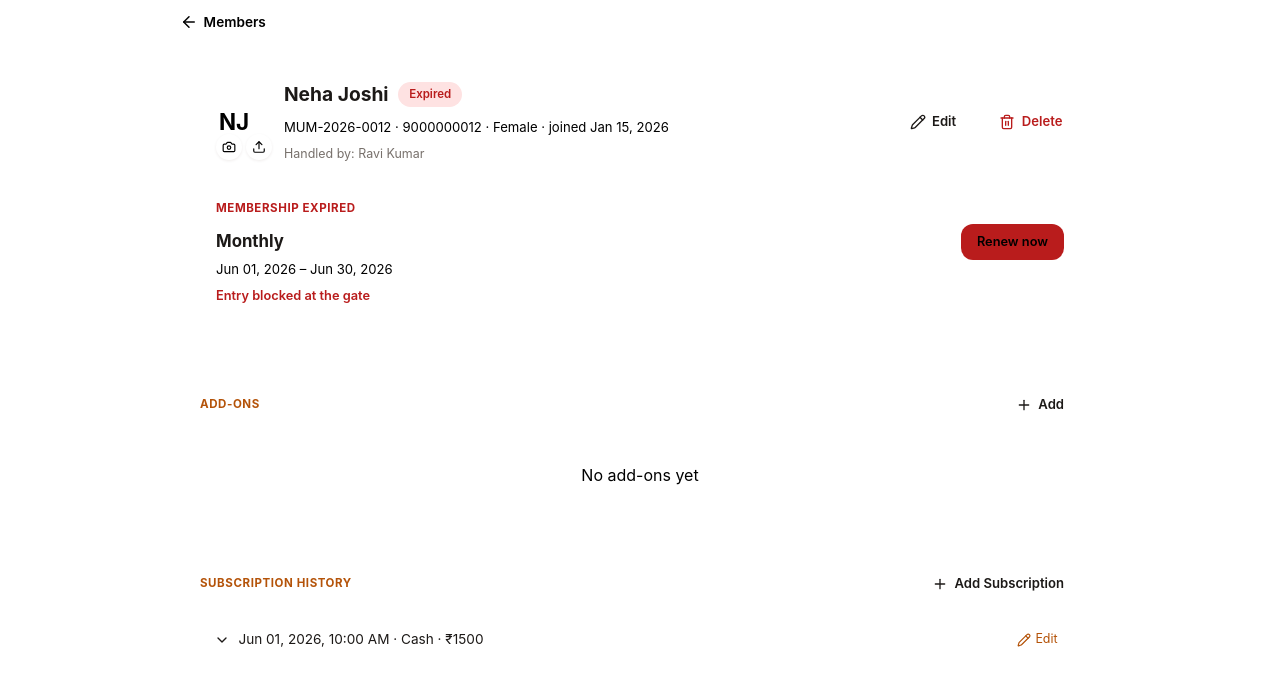
Test: MemberDetailPage — add-ons and subscription history › edits a past checkout’s payment mode and notes in place, via update-subscription
This screenshot has width=1280, height=674.
Click the button with class "member-detail-history-edit".
click(1037, 640)  # box x1=1009 y1=618 x2=1066 y2=662
(page scrolled)
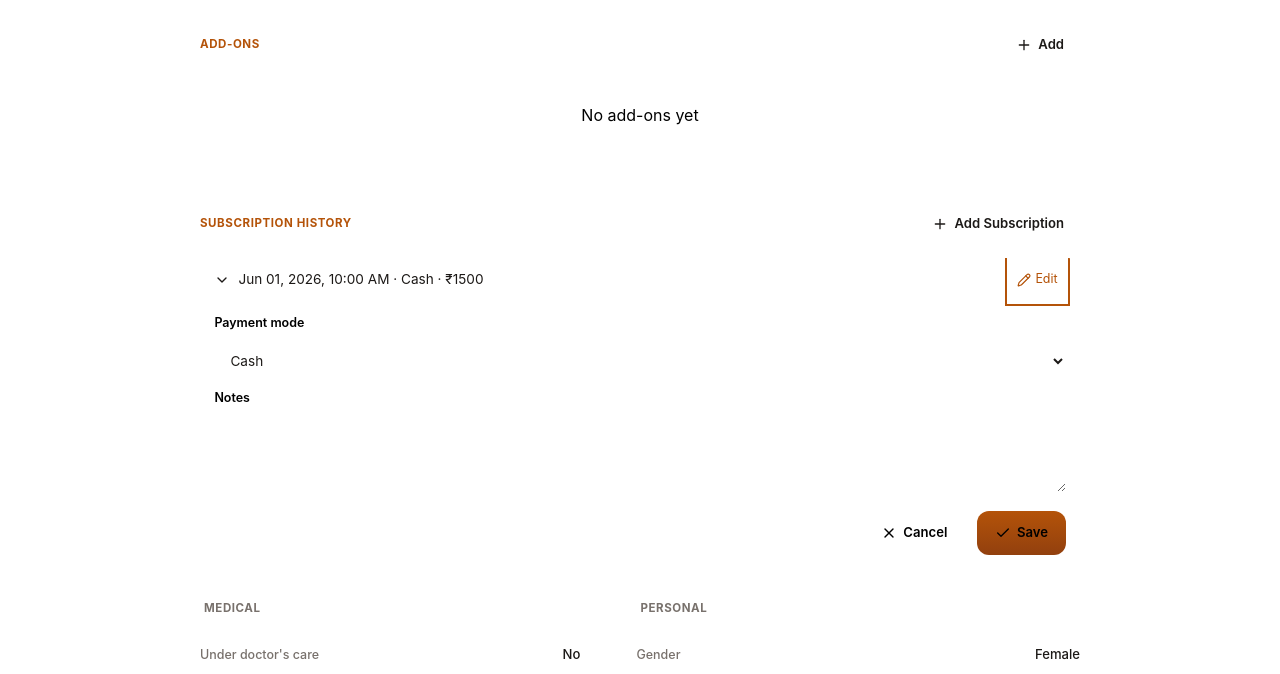
Select "Card" in the dropdown labelled "Payment mode" at (640, 361), box x1=214 y1=339 x2=1066 y2=383
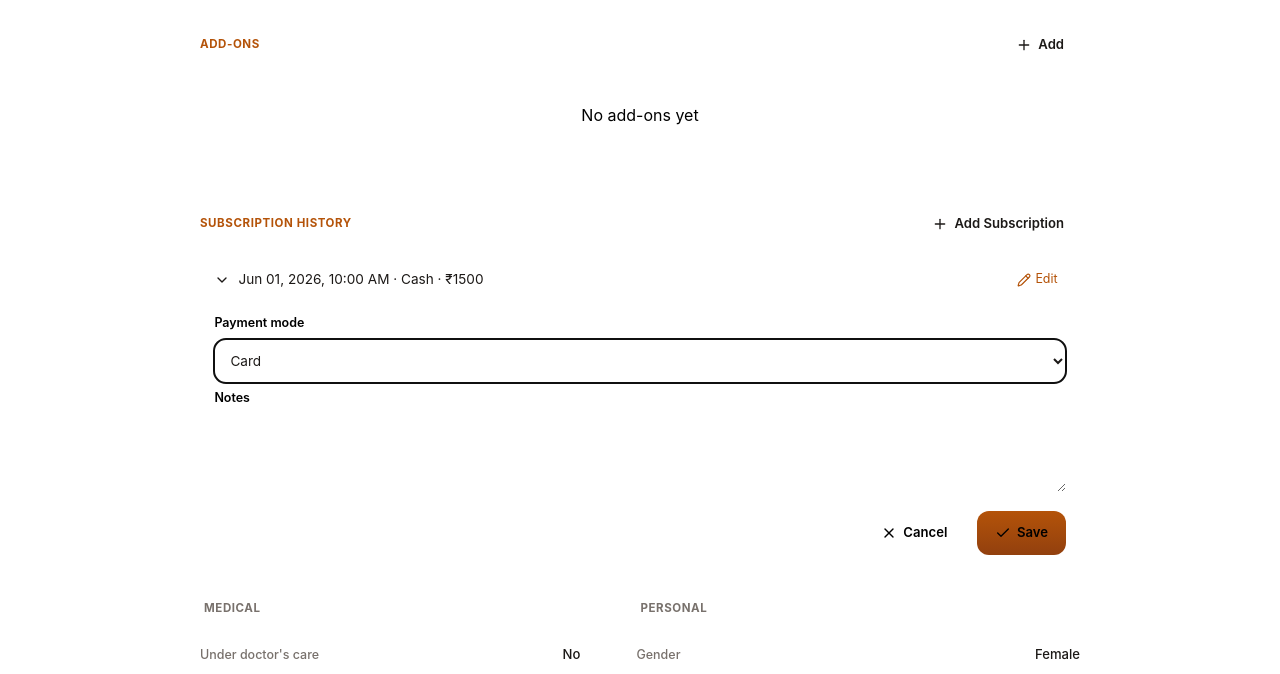
Type "  paid by card  " into the text box labelled "Notes".
click(640, 453); type("  paid by card  ")  # box x1=214 y1=414 x2=1066 y2=492
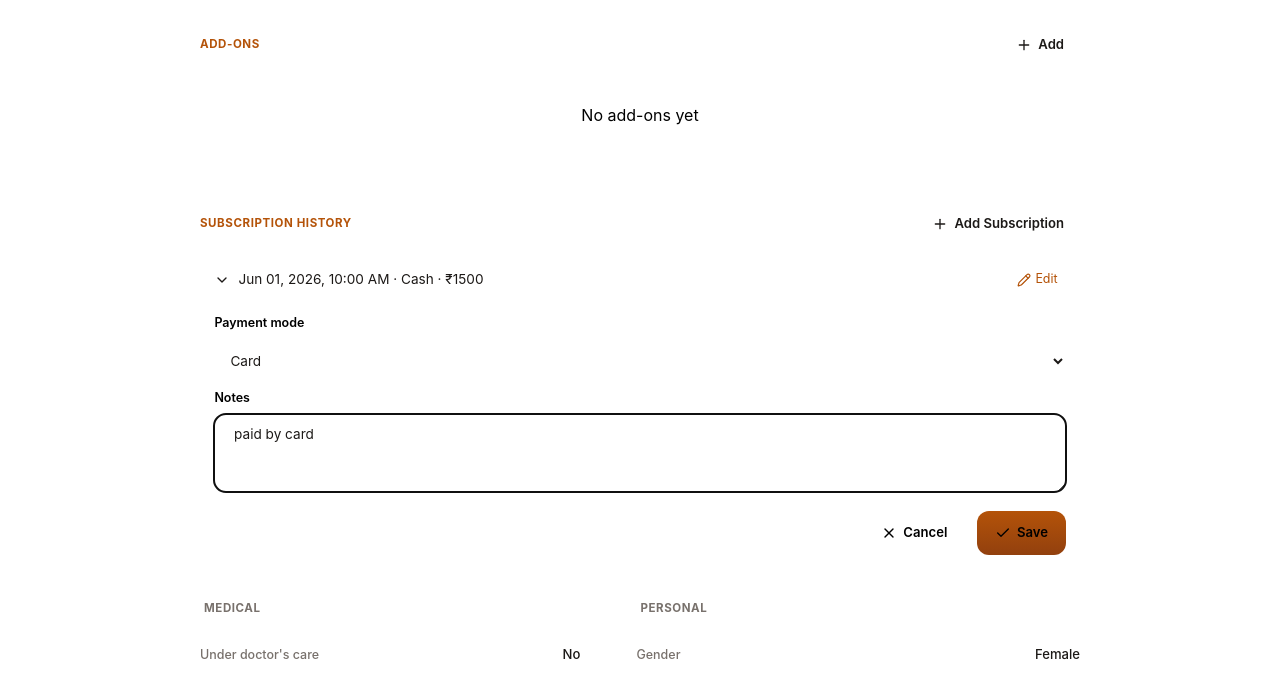
Click the button "Save".
click(1021, 533)  # box x1=977 y1=511 x2=1066 y2=555
(page scrolled)
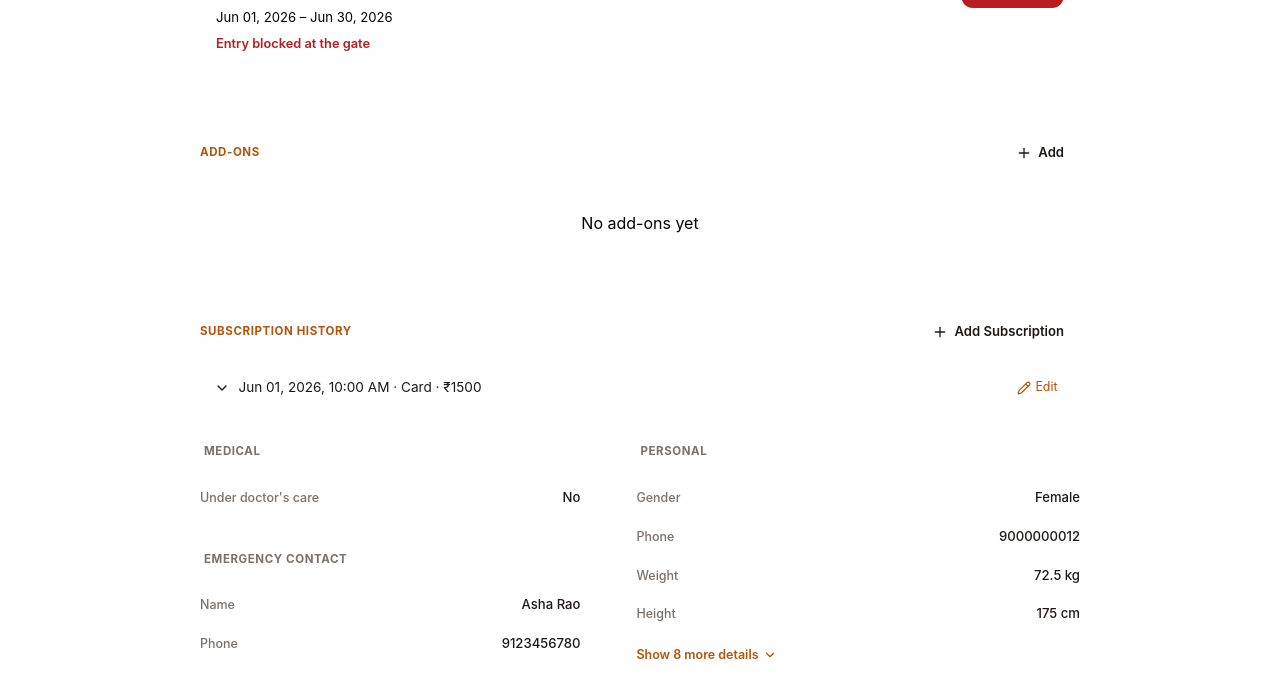
Expected: the text "Jun 01, 2026, 10:00 AM · Card · ₹1500" is shown, x1=238 y1=378 x2=482 y2=398
